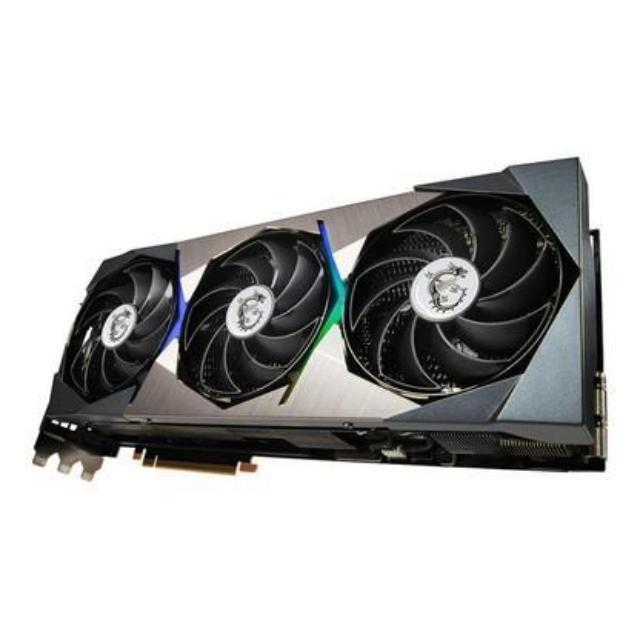GPU: (34, 156, 608, 496)
